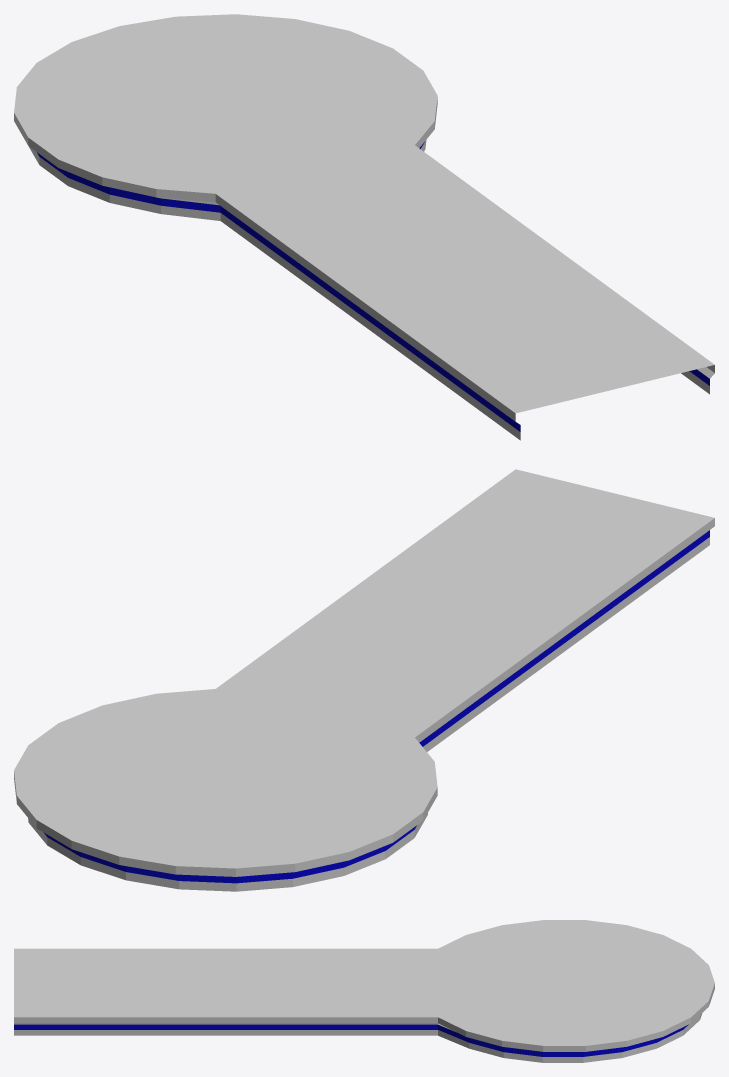
The model's file is Pedestal.002.fbx.
3 renders of one model, top to bottom at view 1: azimuth 30°, elevation 25°; view 2: azimuth 150°, elevation 25°; view 3: azimuth 270°, elevation 25°, orthographic. The views are drawn at different scales.
Parts seen in each view (by area): view 1: Pedestal.002; view 2: Pedestal.002; view 3: Pedestal.002.
Part boxes in pixels (x1=…): Pedestal.002: x1=14, y1=14, x2=714, y2=440; Pedestal.002: x1=14, y1=469, x2=714, y2=891; Pedestal.002: x1=14, y1=920, x2=714, y2=1062.
Size of the model in its own units: 3.06 by 0.229 by 7.21.
